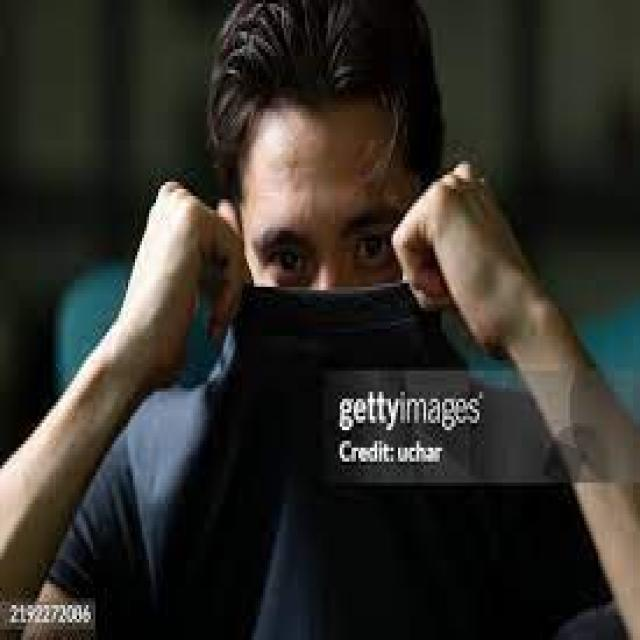8_ropa_rostro: (150, 204, 484, 522)
